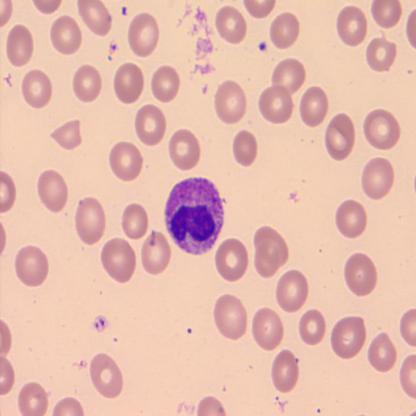Band Neutrophil: (162, 173, 226, 257)
